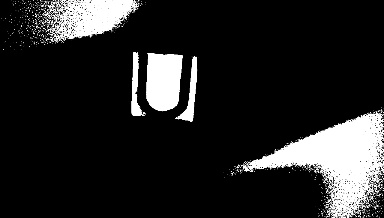U: (130, 52, 193, 120)
